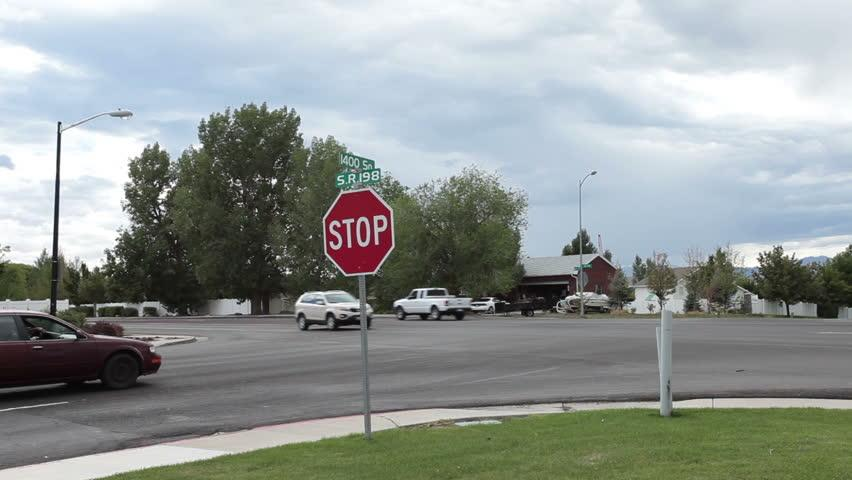Pole: (359, 280, 372, 443)
Sign: (323, 186, 395, 276)
